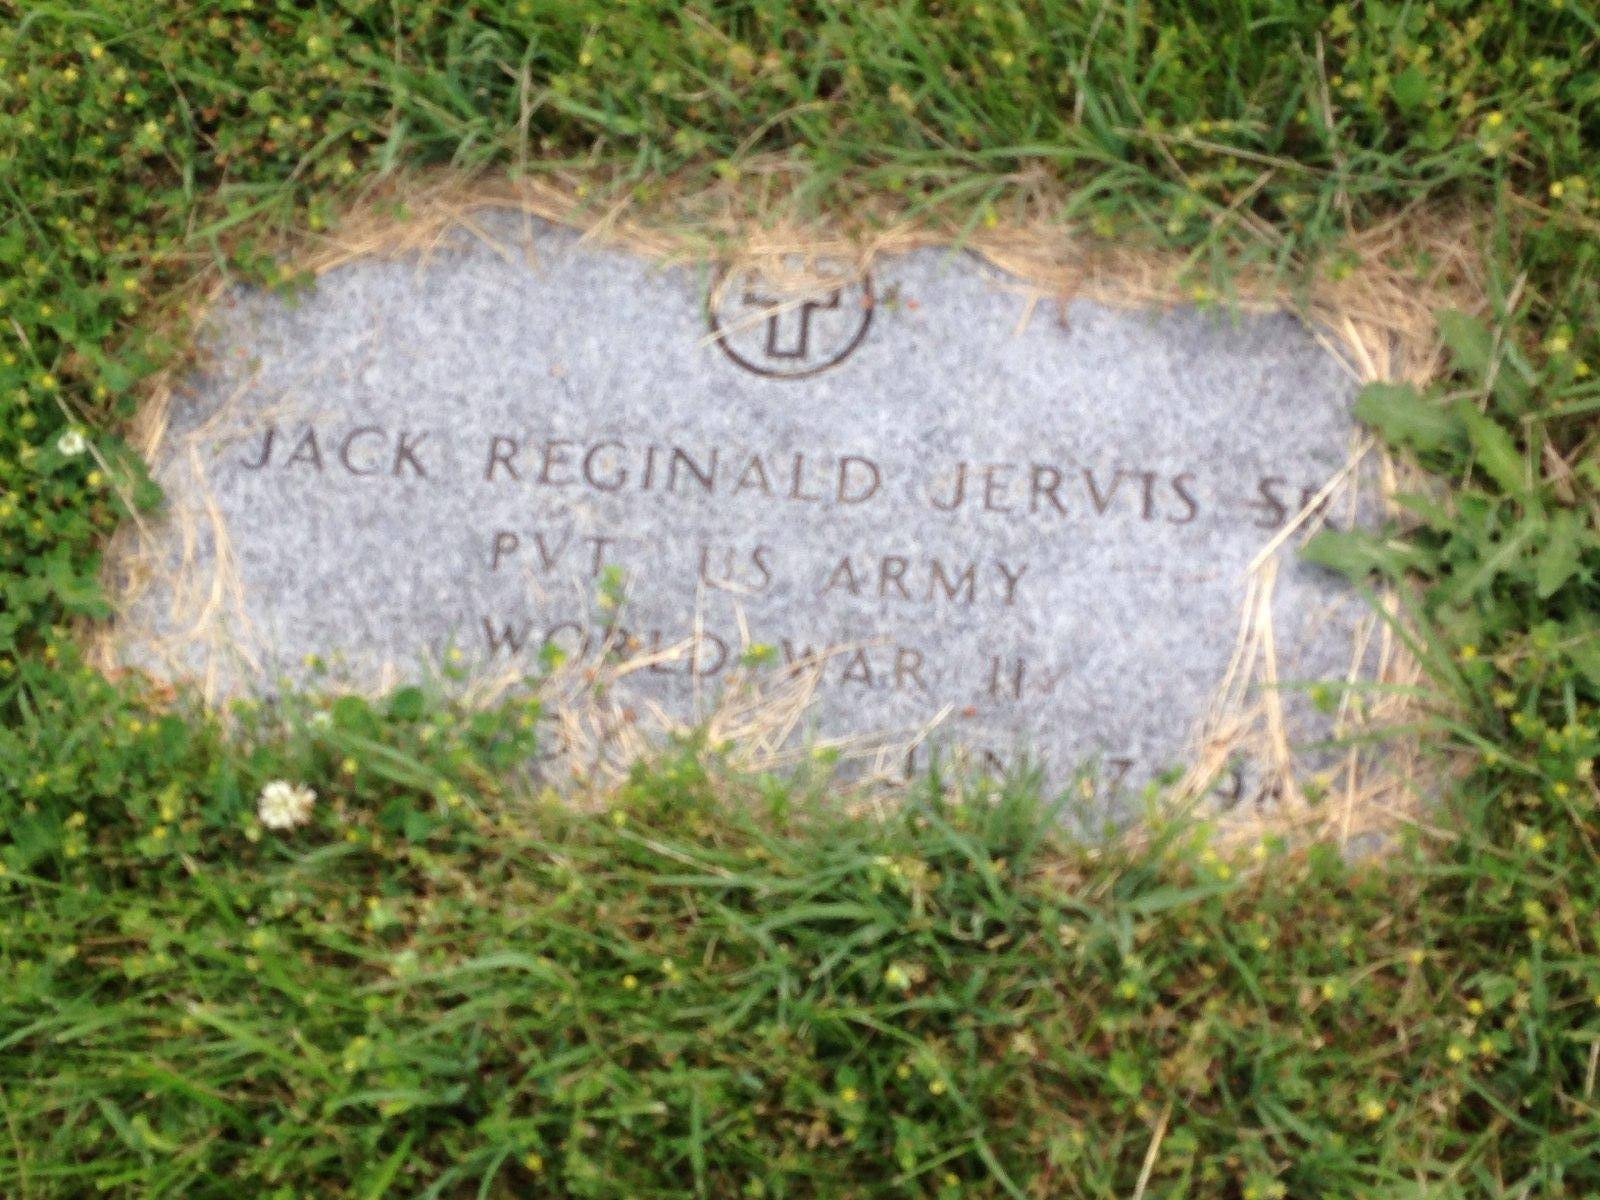flat: (93, 140, 1548, 874)
